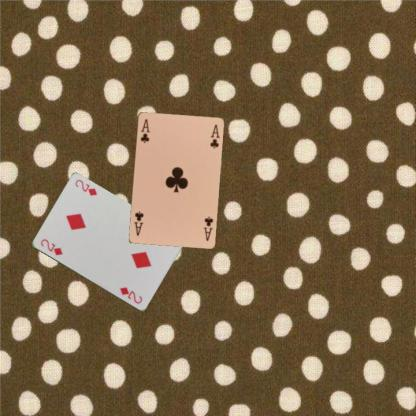2d: (38, 236, 64, 256)
Ac: (137, 116, 151, 144), (201, 214, 214, 242)
